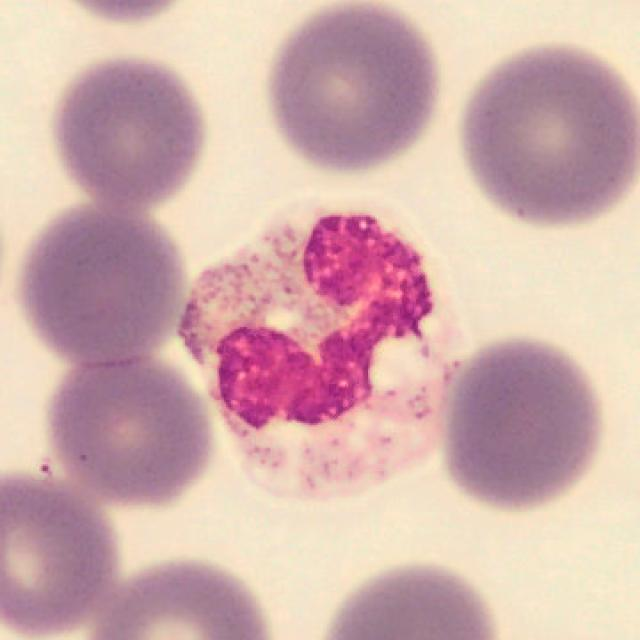Neutrofilo segmentado: (176, 208, 475, 505)
